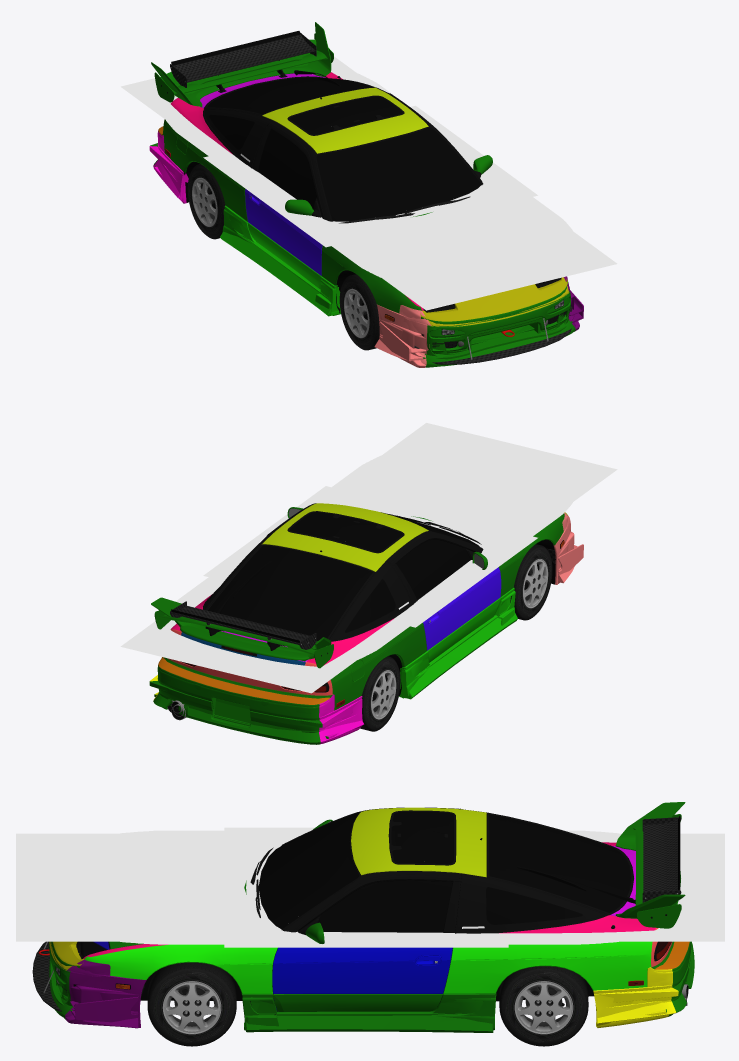
3 renders of one model, top to bottom at view 1: azimuth 30°, elevation 25°; view 2: azimuth 150°, elevation 25°; view 3: azimuth 270°, elevation 25°, orthographic. The views are drawn at different scales.
Parts seen in each view (by area): view 1: neon (×4), shadow, nis_240sx_94_body_body_, nis_240sx_94_glassF_window_, nis_240sx_94_bumperFf_body_2_, nis_240sx_94_body_plastic2_, nis_240sx_94_wingrace_carbon_fiber_, nis_240sx_94_wingb_body_2_, nis_240sx_94_wheel_tire_ (×2), nis_240sx_94_glassRF_window_, nis_240sx_94_bumperFd_body_, nis_240sx_94_glassR_window_ (+17 smaller); view 2: neon (×4), shadow, nis_240sx_94_body_body_, nis_240sx_94_glassR_window_, nis_240sx_94_body_plastic2_, nis_240sx_94_wheel_tire_ (×2), nis_240sx_94_bumperRc_body_, nis_240sx_94_bumperRf_body_, nis_240sx_94_glassRF_window_, nis_240sx_94_bumperRd_body_, nis_240sx_94_trunk_black_glass_, nis_240sx_94_glassT_window_ (+17 smaller); view 3: neon (×4), nis_240sx_94_body_body_, shadow, nis_240sx_94_wheel_tire_ (×2), nis_240sx_94_glassR_window_, nis_240sx_94_glassF_window_, nis_240sx_94_body_plastic2_, nis_240sx_94_glassLF_window_, nis_240sx_94_skirtLc_body_, nis_240sx_94_wheel_rim_ (×2), nis_240sx_94_skirtLd_body_2_, nis_240sx_94_wingrace_carbon_fiber_ (+24 smaller).
Boxes of the visible parts, x1,y1,x2,y2 form: neon (×4): (121, 56, 617, 310); shadow: (163, 66, 575, 288); nis_240sx_94_body_body_: (163, 72, 428, 313); nis_240sx_94_glassF_window_: (319, 130, 480, 221); nis_240sx_94_bumperFf_body_2_: (379, 276, 583, 360); nis_240sx_94_body_plastic2_: (203, 78, 483, 221); nis_240sx_94_wingrace_carbon_fiber_: (170, 32, 316, 89); nis_240sx_94_wingb_body_2_: (151, 22, 331, 106); nis_240sx_94_wheel_tire_ (×2): (187, 164, 379, 350); nis_240sx_94_glassRF_window_: (258, 129, 316, 209); nis_240sx_94_bumperFd_body_: (377, 277, 575, 366); nis_240sx_94_glassR_window_: (213, 77, 358, 109); neon (×4): (120, 423, 617, 693); shadow: (164, 445, 575, 670); nis_240sx_94_body_body_: (167, 503, 564, 710); nis_240sx_94_glassR_window_: (213, 554, 358, 637); nis_240sx_94_body_plastic2_: (203, 503, 483, 641); nis_240sx_94_wheel_tire_ (×2): (360, 544, 552, 731); nis_240sx_94_bumperRc_body_: (153, 669, 363, 742); nis_240sx_94_bumperRf_body_: (149, 657, 360, 738); nis_240sx_94_glassRF_window_: (396, 539, 470, 600); nis_240sx_94_bumperRd_body_: (157, 660, 360, 744); nis_240sx_94_trunk_black_glass_: (208, 546, 371, 641); nis_240sx_94_glassT_window_: (294, 514, 396, 549); neon (×4): (16, 827, 724, 947); nis_240sx_94_body_body_: (83, 807, 672, 993); shadow: (53, 830, 683, 944); nis_240sx_94_wheel_tire_ (×2): (147, 962, 588, 1046); nis_240sx_94_glassR_window_: (506, 820, 626, 906); nis_240sx_94_glassF_window_: (261, 814, 355, 928); nis_240sx_94_body_plastic2_: (283, 807, 608, 934); nis_240sx_94_glassLF_window_: (319, 880, 452, 932); nis_240sx_94_skirtLc_body_: (241, 993, 495, 1032); nis_240sx_94_wheel_rim_ (×2): (166, 981, 573, 1034); nis_240sx_94_skirtLd_body_2_: (273, 994, 442, 1013); nis_240sx_94_wingrace_carbon_fiber_: (642, 817, 681, 902).
Size of the model in its own units: 3.8 by 1.26 by 5.
